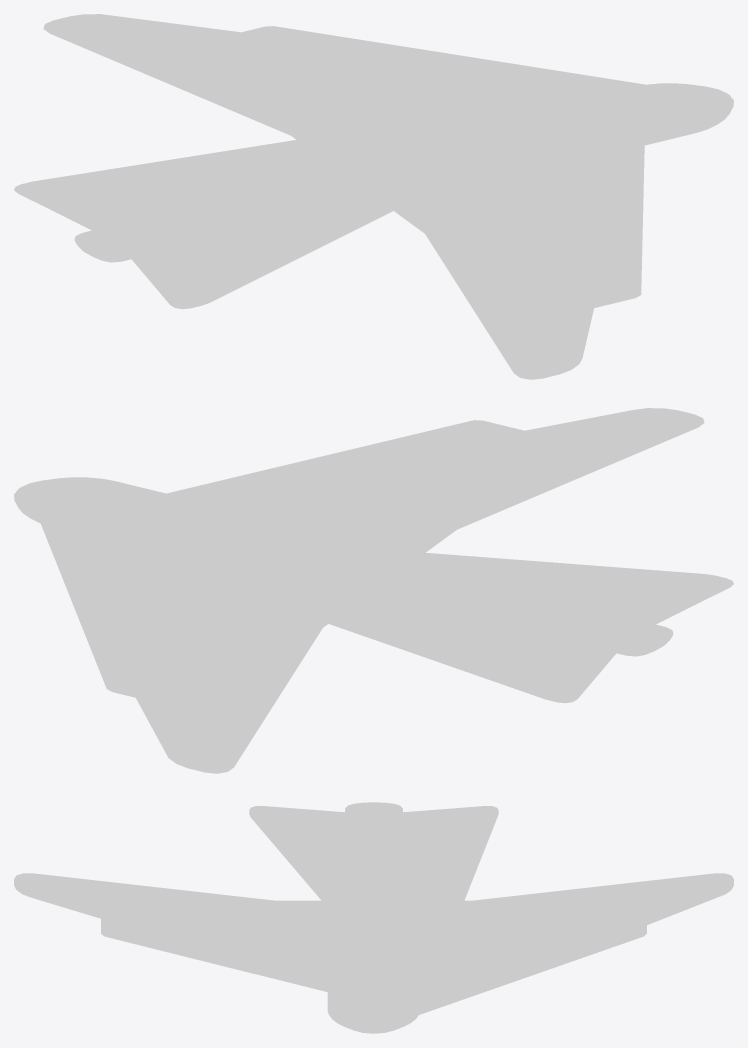
The model's file is Airplane_2D.fbx.
3 views of the same model, one above another, from view 1: azimuth 30°, elevation 25°; view 2: azimuth 150°, elevation 25°; view 3: azimuth 270°, elevation 25° (orthographic). The views are drawn at different scales.
Parts seen in each view (by area): view 1: Airplane_2D; view 2: Airplane_2D; view 3: Airplane_2D.
Part boxes in pixels (box(x1,y1,x2,y2)): Airplane_2D: box(14, 14, 733, 379); Airplane_2D: box(14, 408, 733, 773); Airplane_2D: box(14, 802, 733, 1033).
Bounding box in the file's own units: 112 × 1.12e-05 × 147.
